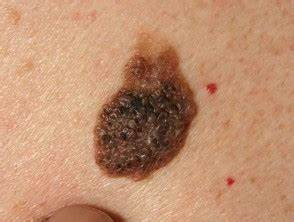Melanoma: (93, 47, 198, 182)
